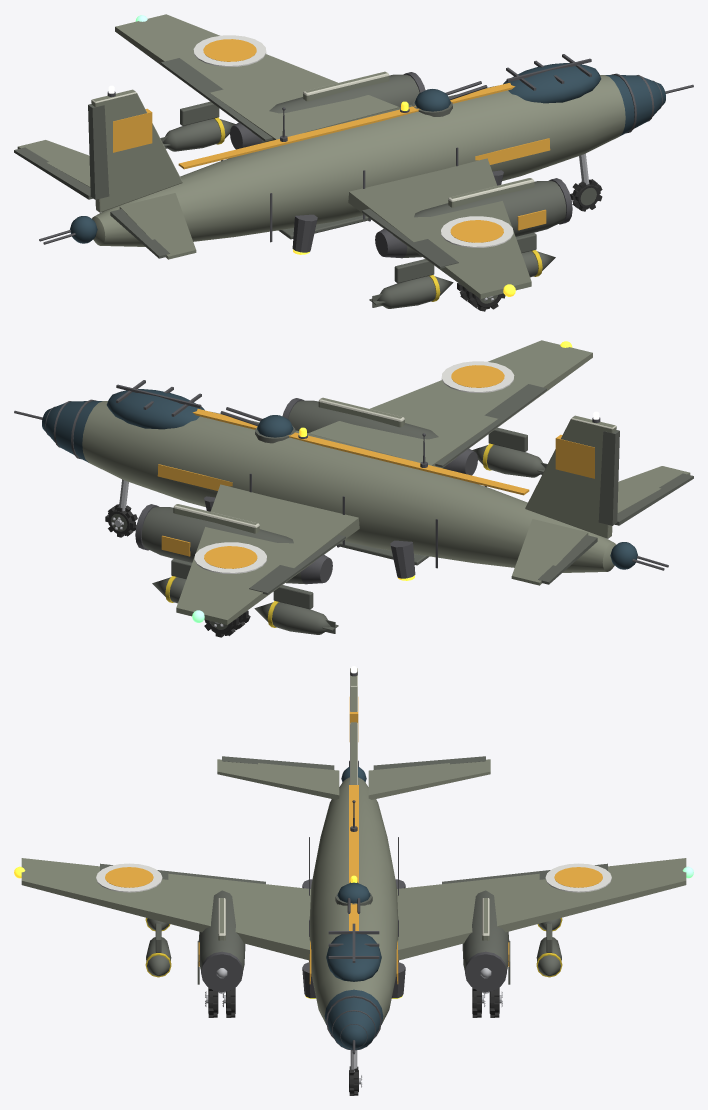
File: bomber_orange.glb
3 views of the same model, one above another, from view 1: azimuth 30°, elevation 25°; view 2: azimuth 150°, elevation 25°; view 3: azimuth 270°, elevation 25° (orthographic). The views are drawn at different scales.
Visible parts, largest first — view 1: Body, LandingGearN, LandingGearR; view 2: Body, LandingGearN, LandingGearL; view 3: Body, LandingGearL, LandingGearR.
Part boxes in pixels (x1,y1,x2,y2): Body: (14,14,693,308); LandingGearN: (570,153,602,211); LandingGearR: (457,283,505,311); Body: (14,340,693,634); LandingGearN: (105,479,137,537); LandingGearL: (204,610,250,637); Body: (14,666,693,1054); LandingGearL: (472,987,502,1017); LandingGearR: (205,987,235,1017).
Bounding box in the file's own units: 7 × 2.46 × 6.96.
1 material, 1 textured.
